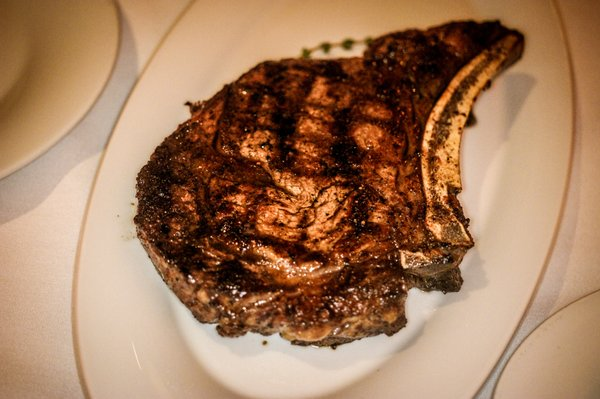sushi: (131, 22, 520, 346)
